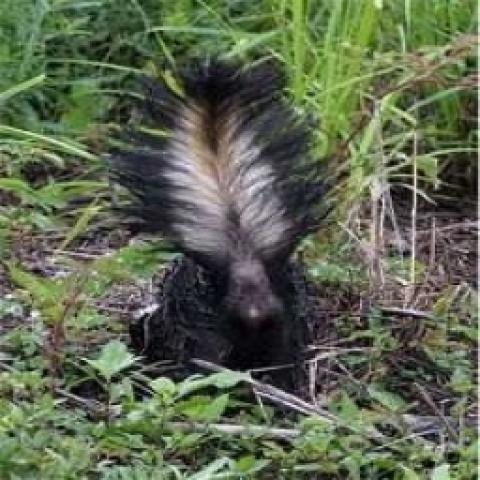small_animal: (108, 45, 338, 392)
